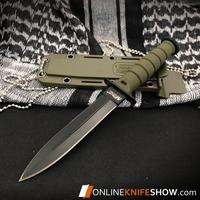knife: (17, 44, 171, 188)
